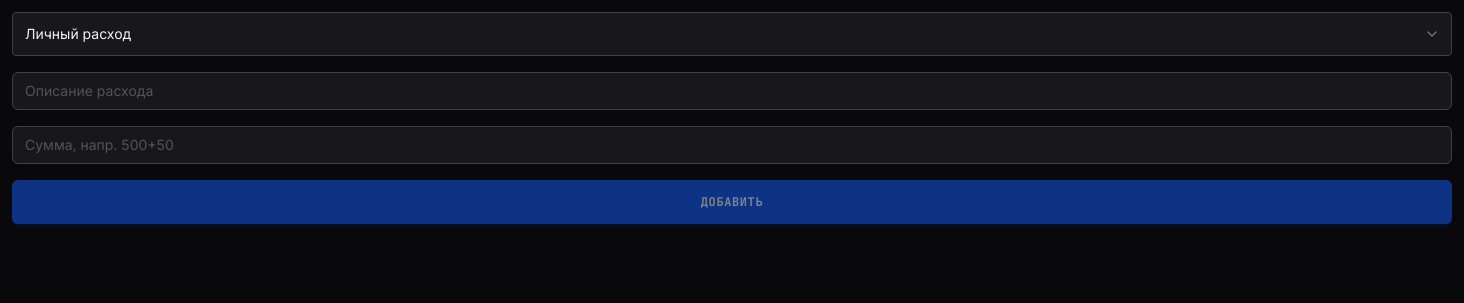
ExpenseForm › amount input (T-036) › shows an inline error and does not submit on Enter with text
Type "молоко" into the field with placeholder "Описание расхода". click: (732,91)
box: [12,72,1452,110]
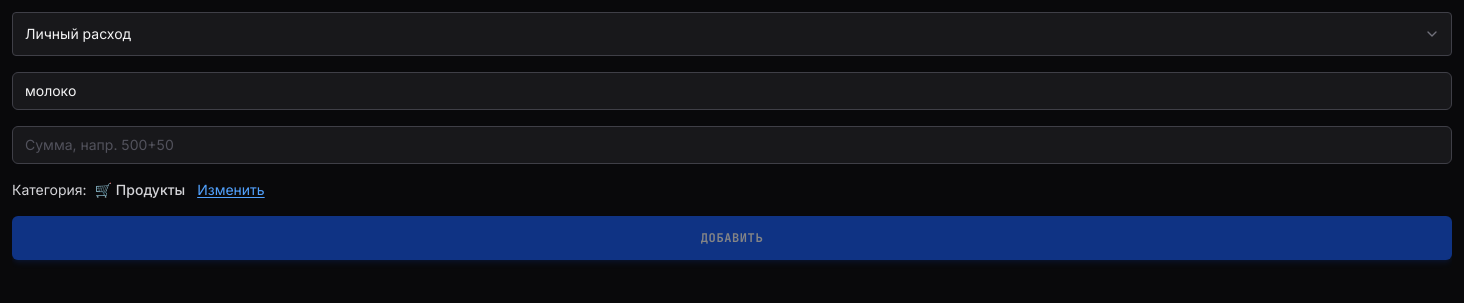
Type "15 руб" into the field with placeholder "Сумма, напр. 500+50". click: (732,145)
box: [12,126,1452,164]
Then press Enter
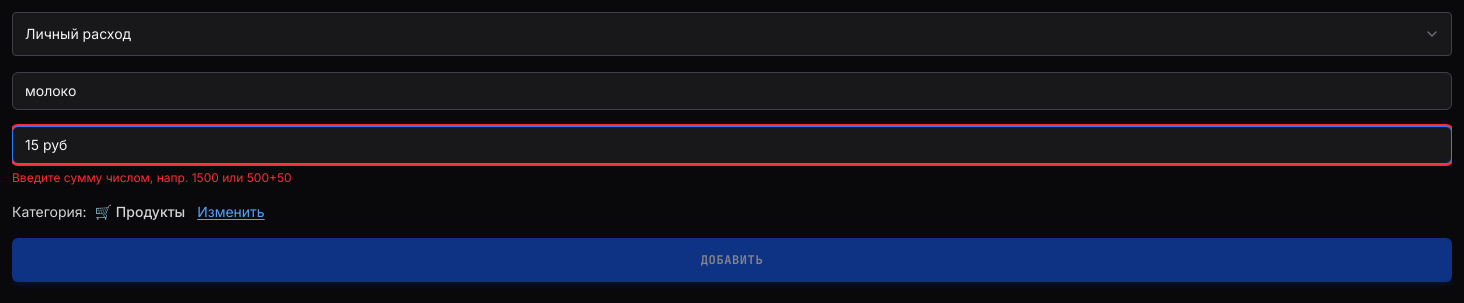
Now the message reads "Введите сумму числом, напр. 1500 или 500+50", box [12,170,292,185]
